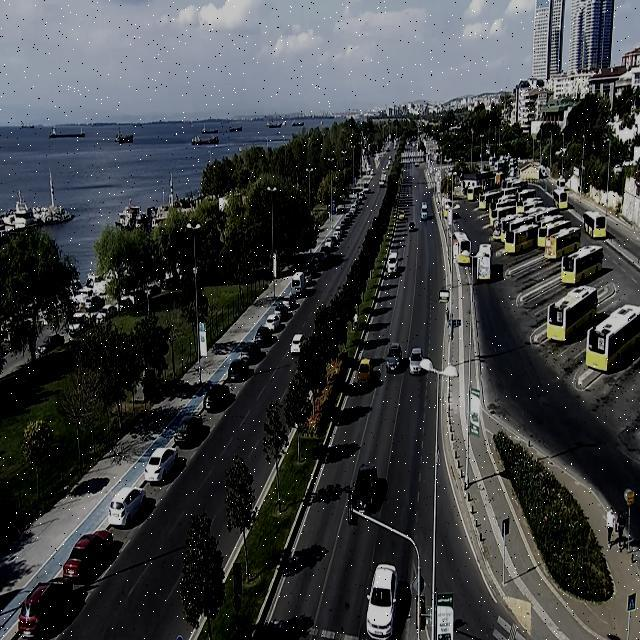bus: (585, 304, 640, 372), (548, 288, 598, 341), (561, 246, 604, 284), (544, 228, 580, 259), (505, 224, 539, 253), (538, 220, 571, 247), (452, 231, 471, 264), (584, 211, 606, 238), (509, 218, 534, 231), (554, 188, 568, 208)
car: (18, 579, 85, 639), (366, 564, 398, 640), (351, 464, 388, 513), (109, 488, 145, 526), (174, 415, 210, 449), (145, 448, 178, 481), (204, 384, 235, 412), (235, 342, 265, 364), (226, 359, 254, 382), (385, 344, 404, 374), (254, 326, 276, 348), (62, 559, 81, 578), (274, 302, 292, 321), (409, 348, 422, 374), (264, 314, 281, 332), (386, 251, 398, 274)
pedestrian: (606, 509, 618, 547), (618, 514, 625, 551)
